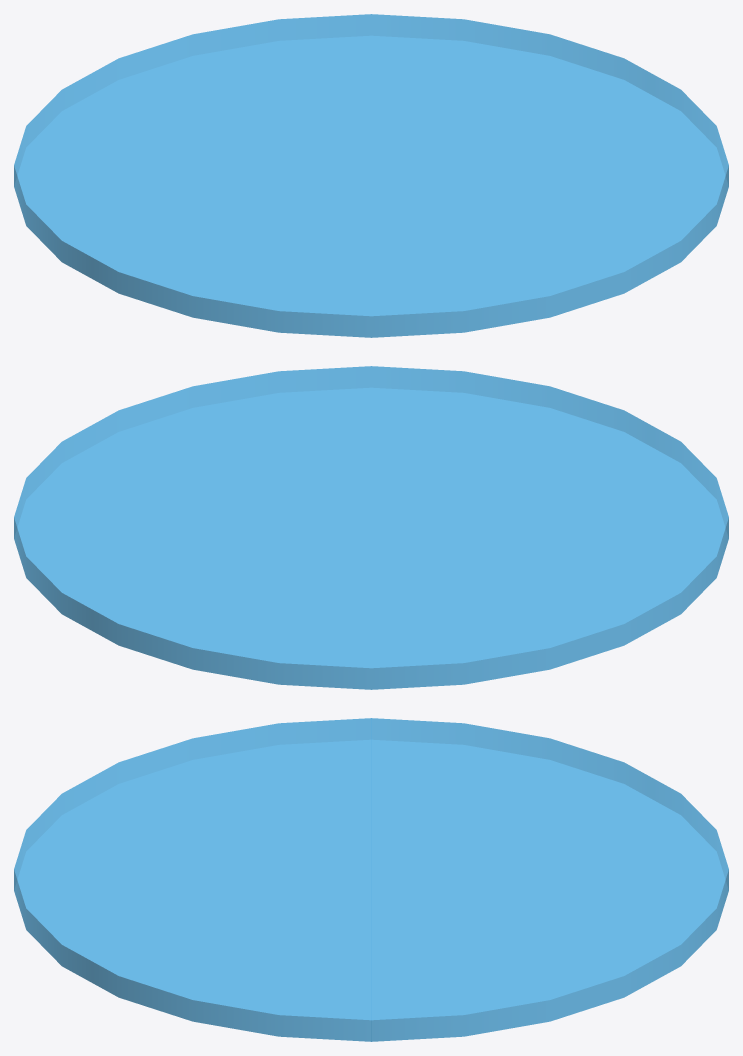
Rendered from WristRewindRing.obj.
3 views of the same model, one above another, from view 1: azimuth 30°, elevation 25°; view 2: azimuth 150°, elevation 25°; view 3: azimuth 270°, elevation 25° (orthographic).
Visible parts, largest first — view 1: RingHalo; view 2: RingHalo; view 3: RingHalo.
Part boxes in pixels (bbox=[...]): RingHalo: bbox=[14, 14, 728, 337]; RingHalo: bbox=[14, 366, 728, 689]; RingHalo: bbox=[14, 718, 728, 1041].
Bounding box in the file's own units: 1.5 × 0.05 × 1.5.
